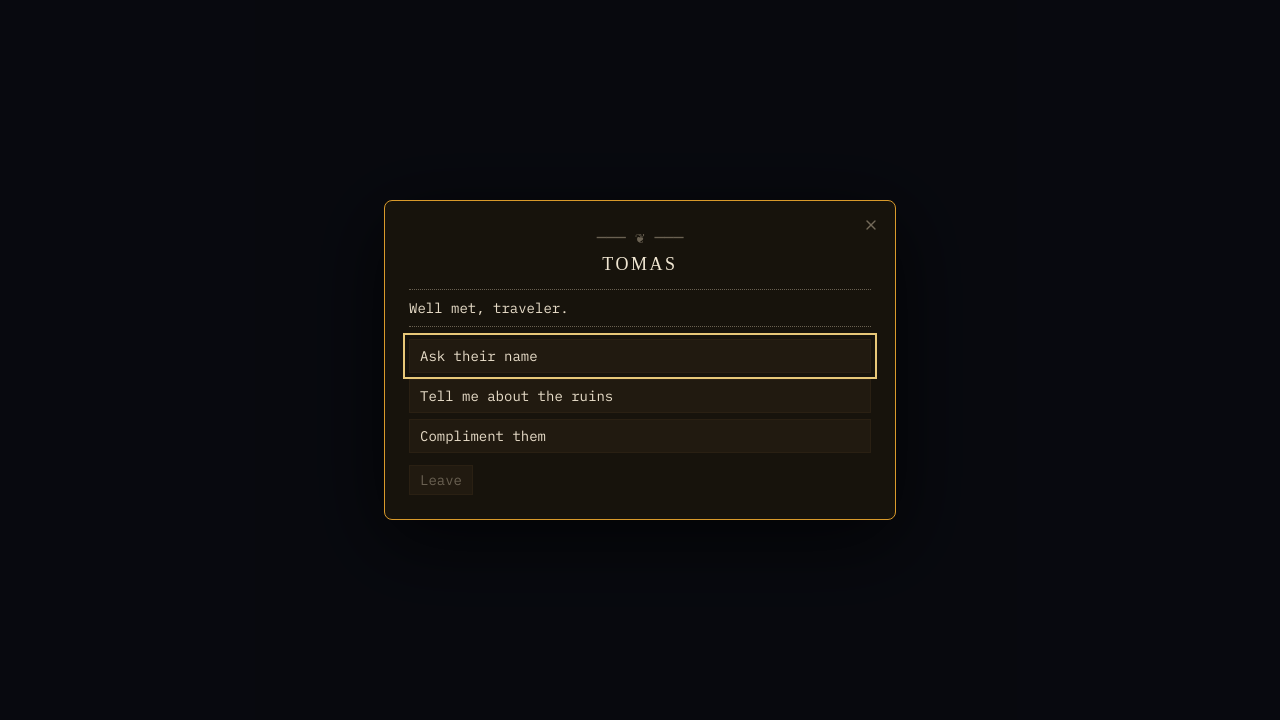
Test: DialogueScreen › choosing a topic shows its response and reveals its follow-up topic
Click the button "Ask their name": click(479, 356) x1=409 y1=339 x2=871 y2=373
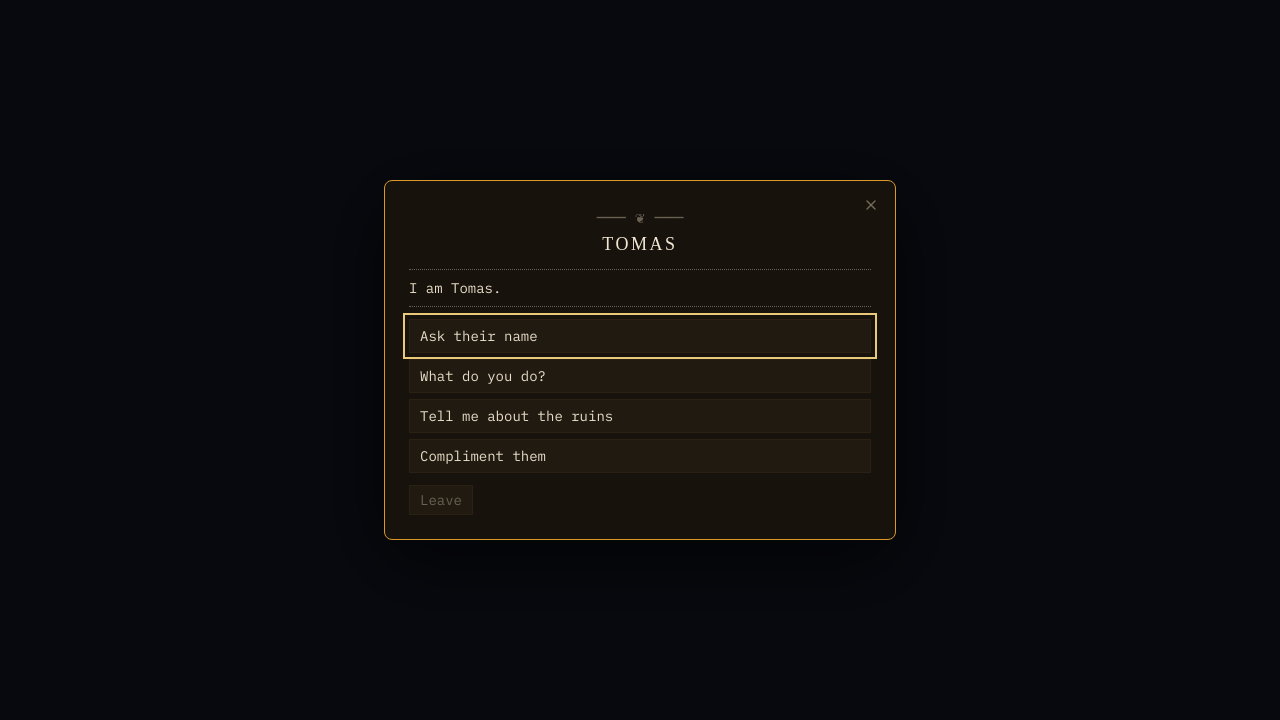
Check: the text "I am Tomas." is shown, box x1=409 y1=269 x2=871 y2=307
Check: the button "What do you do?" is shown, box x1=409 y1=359 x2=871 y2=393
